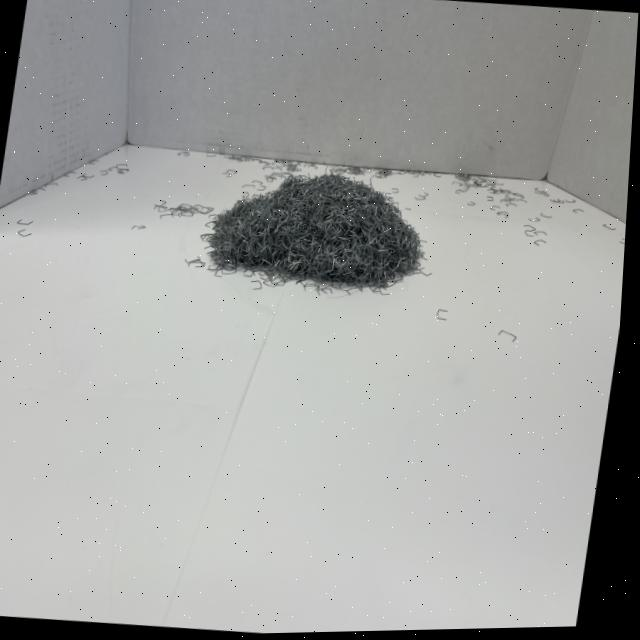staples: (194, 156, 442, 305)
